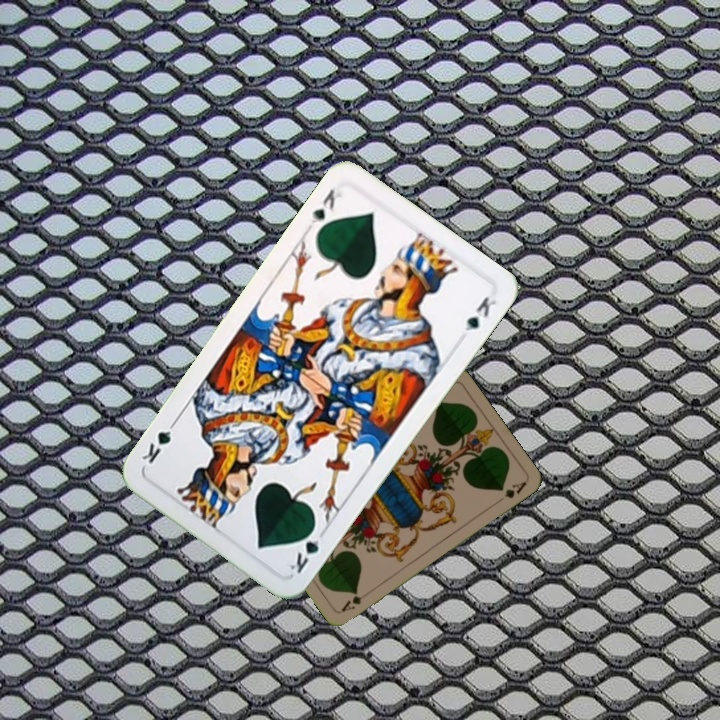GA: (337, 592, 364, 614)
GK: (283, 521, 324, 577), (307, 185, 345, 228)
